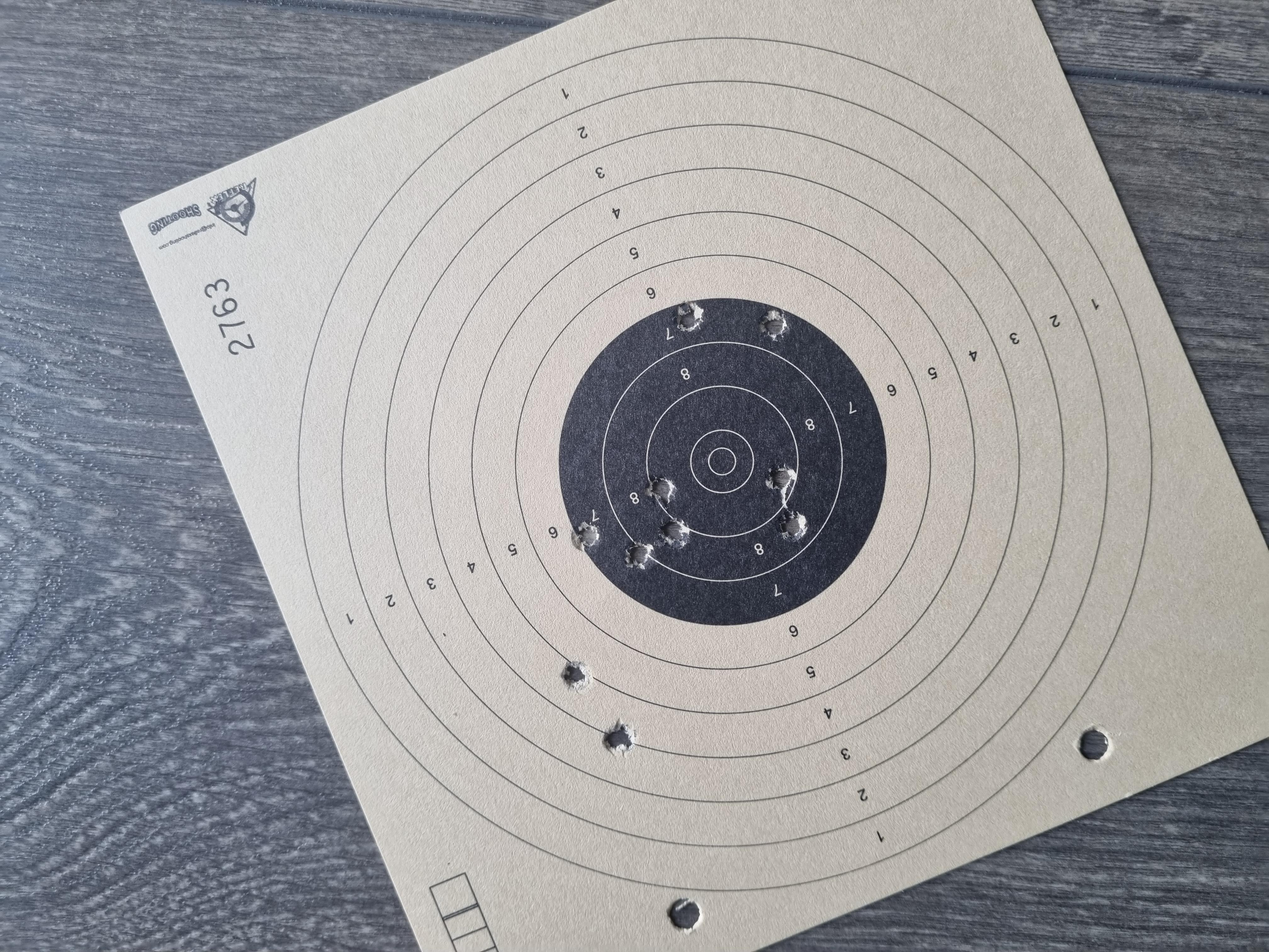hole: (589, 575, 651, 599), (263, 450, 311, 477), (593, 484, 637, 507), (826, 504, 868, 528), (547, 583, 590, 606), (509, 467, 548, 492), (347, 420, 389, 443), (813, 569, 856, 591), (539, 493, 578, 517), (533, 429, 573, 451)
